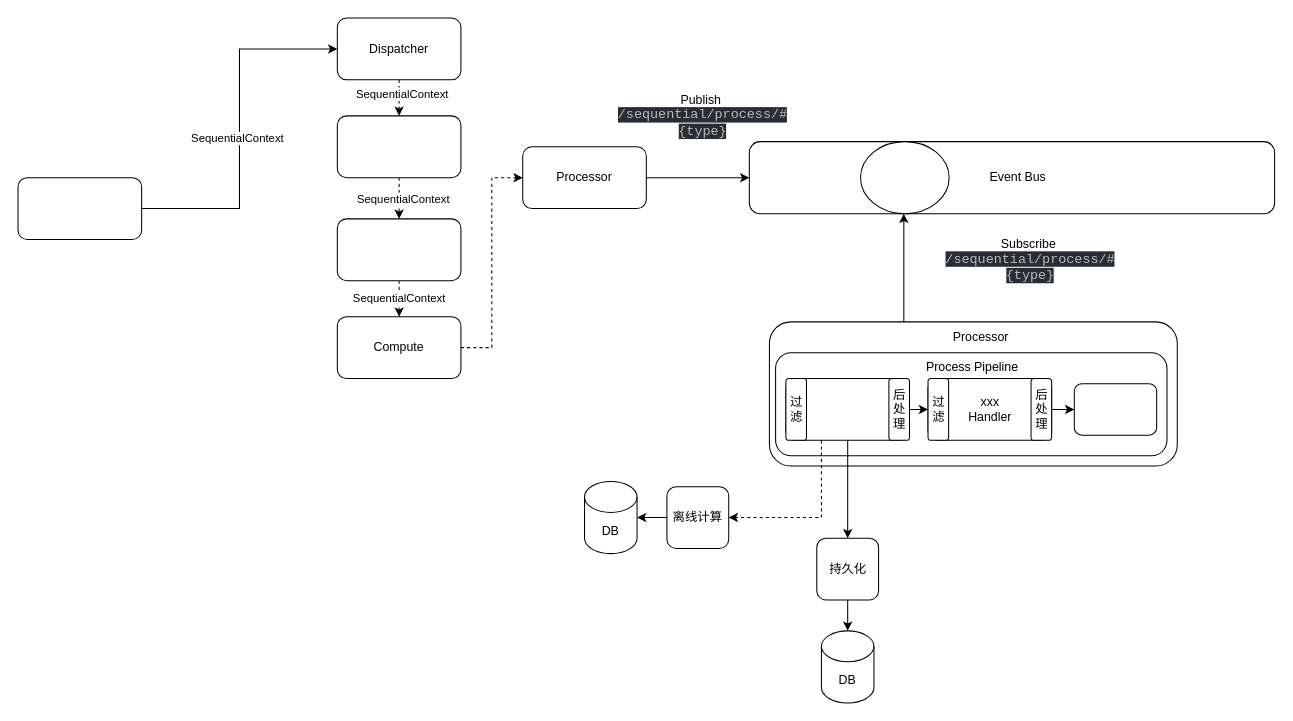
Some shapes in this 1293 by 721 pixel diagram are drawn without their labels. Each missing label, with the box of its shape:
Append Handler: (1073, 383, 1157, 435)
Source: (17, 177, 142, 239)
Topic: (860, 141, 949, 214)
Transducer: (336, 115, 461, 178)
Washer: (336, 218, 461, 281)
计算 Handler: (785, 377, 909, 440)
